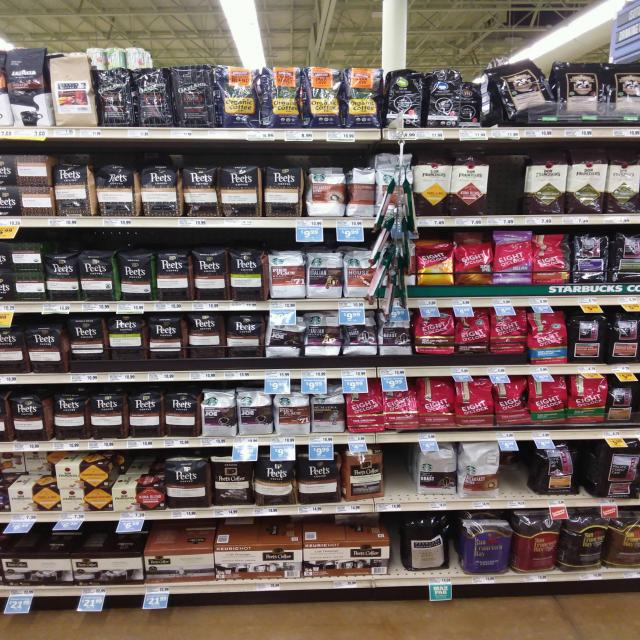100- O.O.S: (492, 158, 520, 225), (384, 445, 411, 510), (501, 451, 528, 508)
